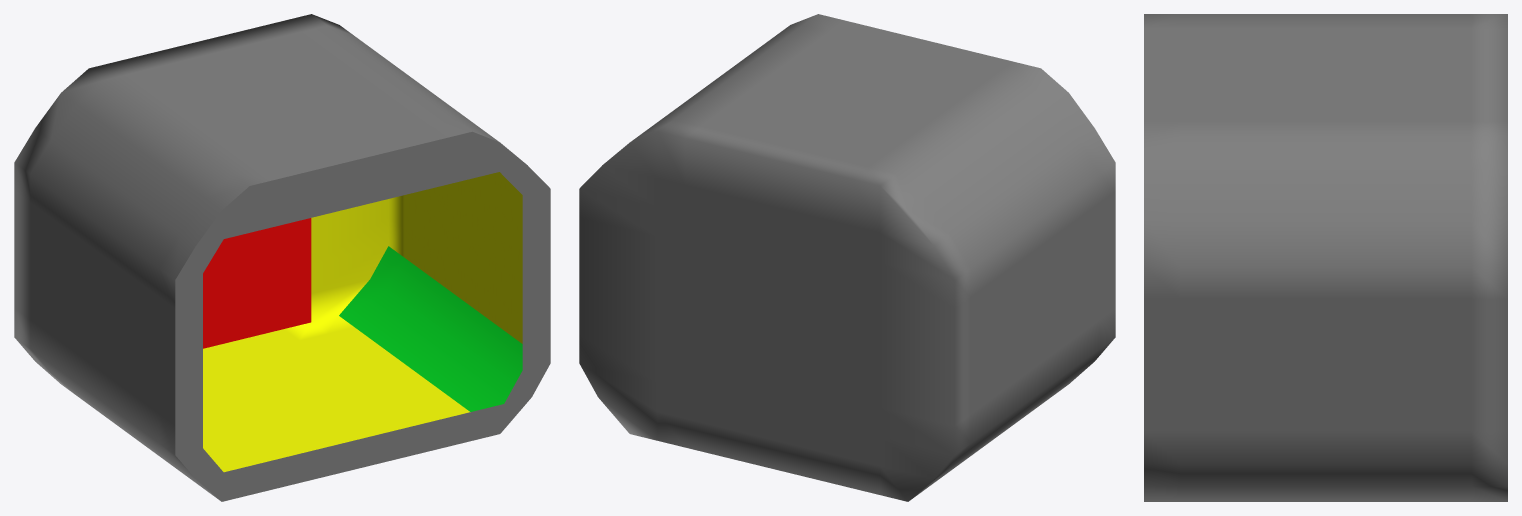
File: hangar.fbx
3 views of the same model, side by side, from view 1: azimuth 30°, elevation 25°; view 2: azimuth 150°, elevation 25°; view 3: azimuth 270°, elevation 25° (orthographic). The views are drawn at different scales.
Parts seen in each view (by area): view 1: polySurface1, polySurface3 (×3), polySurface2; view 2: polySurface1; view 3: polySurface1.
Part boxes in pixels (x1,y1,x2,y2): polySurface1: (14, 14, 498, 500); polySurface3 (×3): (203, 172, 522, 472); polySurface2: (175, 131, 550, 501); polySurface1: (579, 14, 1115, 501); polySurface1: (1144, 14, 1507, 501).
Bounding box in the file's own units: 1.35 × 1.06 × 1.
